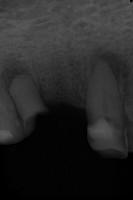Furcation Involvement: (90, 48, 124, 82), (0, 61, 32, 92)
